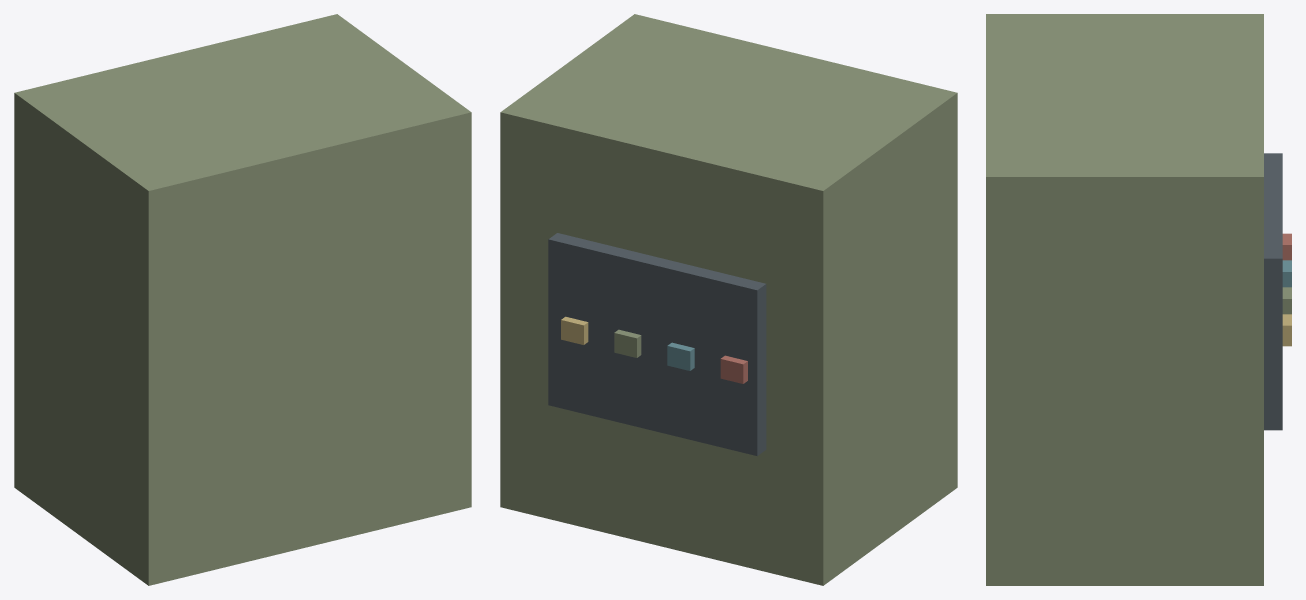
The model's file is iz2_logistics_flatbed_trailer.glb.
The picture shows the model from 3 angles, left to right: view 1: azimuth 30°, elevation 25°; view 2: azimuth 150°, elevation 25°; view 3: azimuth 270°, elevation 25°; orthographic projection. The views are drawn at different scales.
Visible parts, largest first — view 1: body; view 2: body; view 3: body.
Boxes of the visible parts, box(x1,y1,x2,y2) form: body: box(14, 14, 471, 585); body: box(500, 14, 957, 585); body: box(986, 14, 1291, 585).
Bounding box in the file's own units: 0.8557 × 1 × 0.6781.
